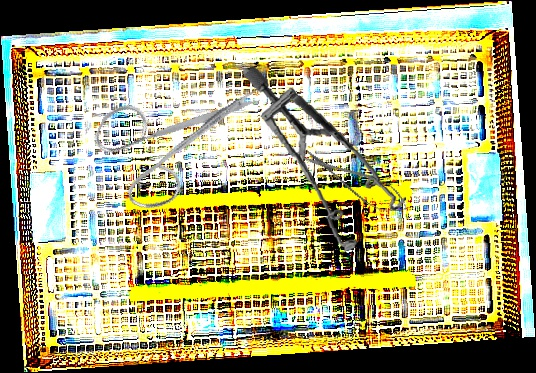Iris Scissors: (76, 36, 264, 234)
Micro Scissor: (297, 141, 414, 222)
Speculum: (242, 52, 411, 261)
